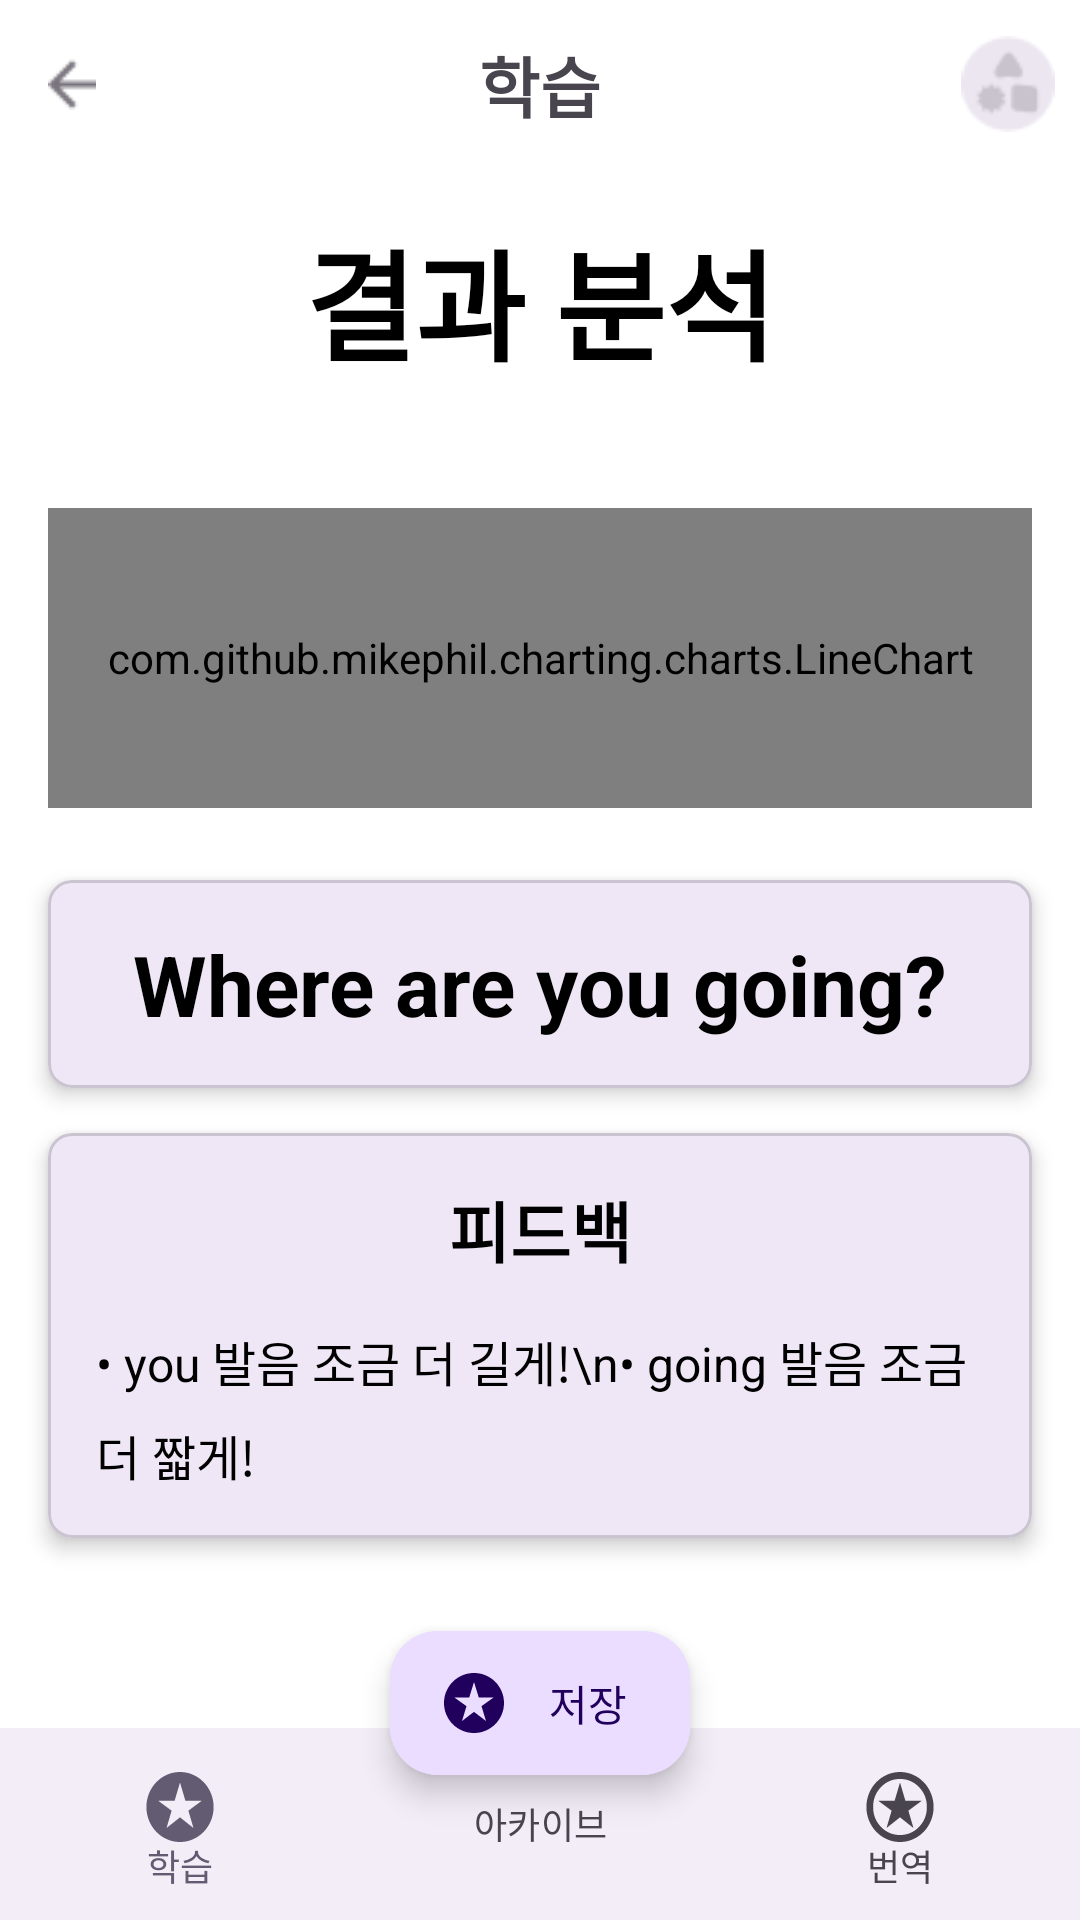

Where icons sit on this 1080w x 1920h app screen, as bbox=[x1, y1, x2, y2]:
뒤로가기: bbox=[48, 61, 96, 108]
